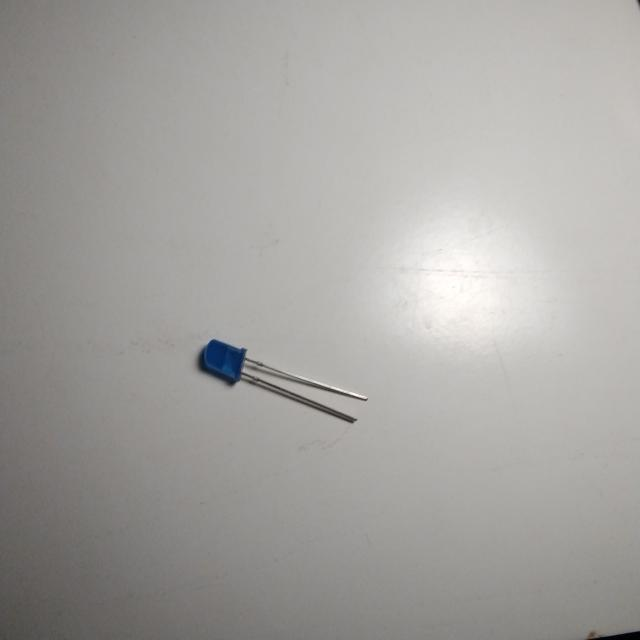blue_led: (200, 336, 368, 424)
